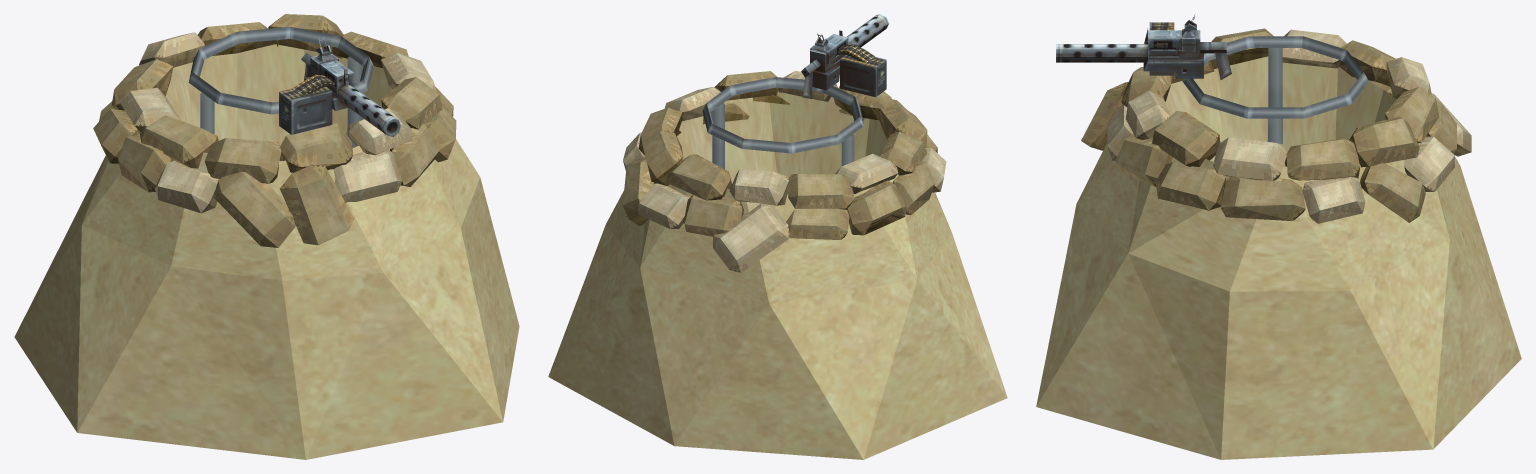
Rendered from C3SMMGN_H.obj.
3 views of the same model, side by side, from view 1: azimuth 30°, elevation 25°; view 2: azimuth 150°, elevation 25°; view 3: azimuth 270°, elevation 25° (orthographic). The views are drawn at different scales.
Visible parts, largest first — view 1: Node 0, Node 10, Node 8, Node 11, Node 3, Node 9; view 2: Node 0, Node 9, Node 8, Node 3, Node 10, Node 11; view 3: Node 0, Node 8, Node 10, Node 9, Node 3.
Boxes of the visible parts, <box> form: Node 0: <box>14,44,519,459</box>; Node 10: <box>280,77,456,245</box>; Node 8: <box>188,14,453,147</box>; Node 11: <box>204,138,295,247</box>; Node 3: <box>279,37,400,136</box>; Node 9: <box>99,22,278,120</box>; Node 0: <box>548,90,1007,459</box>; Node 9: <box>638,154,849,272</box>; Node 8: <box>622,77,864,225</box>; Node 3: <box>801,14,888,98</box>; Node 10: <box>703,71,906,124</box>; Node 11: <box>879,103,937,152</box>; Node 0: <box>1036,28,1521,459</box>; Node 8: <box>1182,36,1425,223</box>; Node 10: <box>1081,66,1225,210</box>; Node 9: <box>1369,57,1471,191</box>; Node 3: <box>1056,14,1231,79</box>.
Bounding box in the file's own units: 5.7 × 4.32 × 5.54.
Materials: 15 (15 with a texture image).
